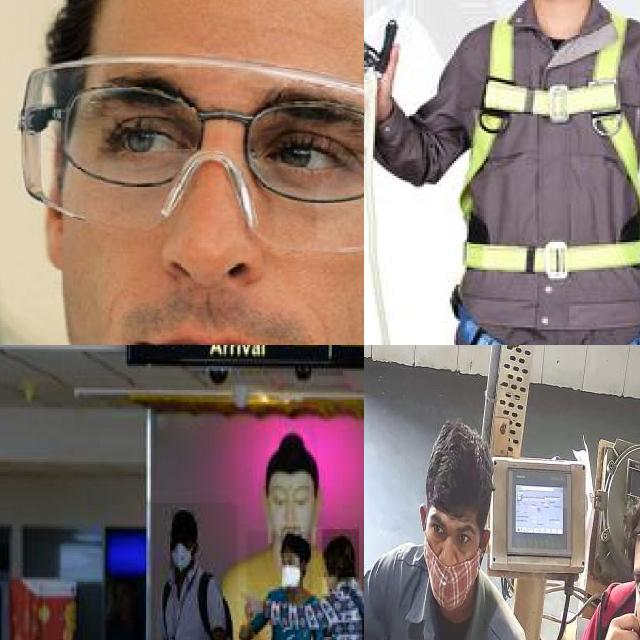Harness: (454, 9, 640, 345)
No_Glasses: (426, 512, 477, 555), (623, 551, 640, 604)
face_mask: (419, 508, 487, 610), (170, 531, 194, 570), (282, 553, 300, 587)
face_nomask: (81, 74, 364, 345), (322, 558, 343, 594)
glasses: (19, 50, 364, 259), (44, 83, 364, 212)
hand_noglove: (588, 608, 640, 640)
head_nohelmet: (414, 420, 502, 507), (322, 529, 359, 577), (172, 510, 196, 539), (281, 527, 303, 558)
person: (376, 420, 534, 640), (535, 465, 640, 640), (151, 502, 239, 640), (247, 531, 314, 640), (307, 517, 364, 640)
